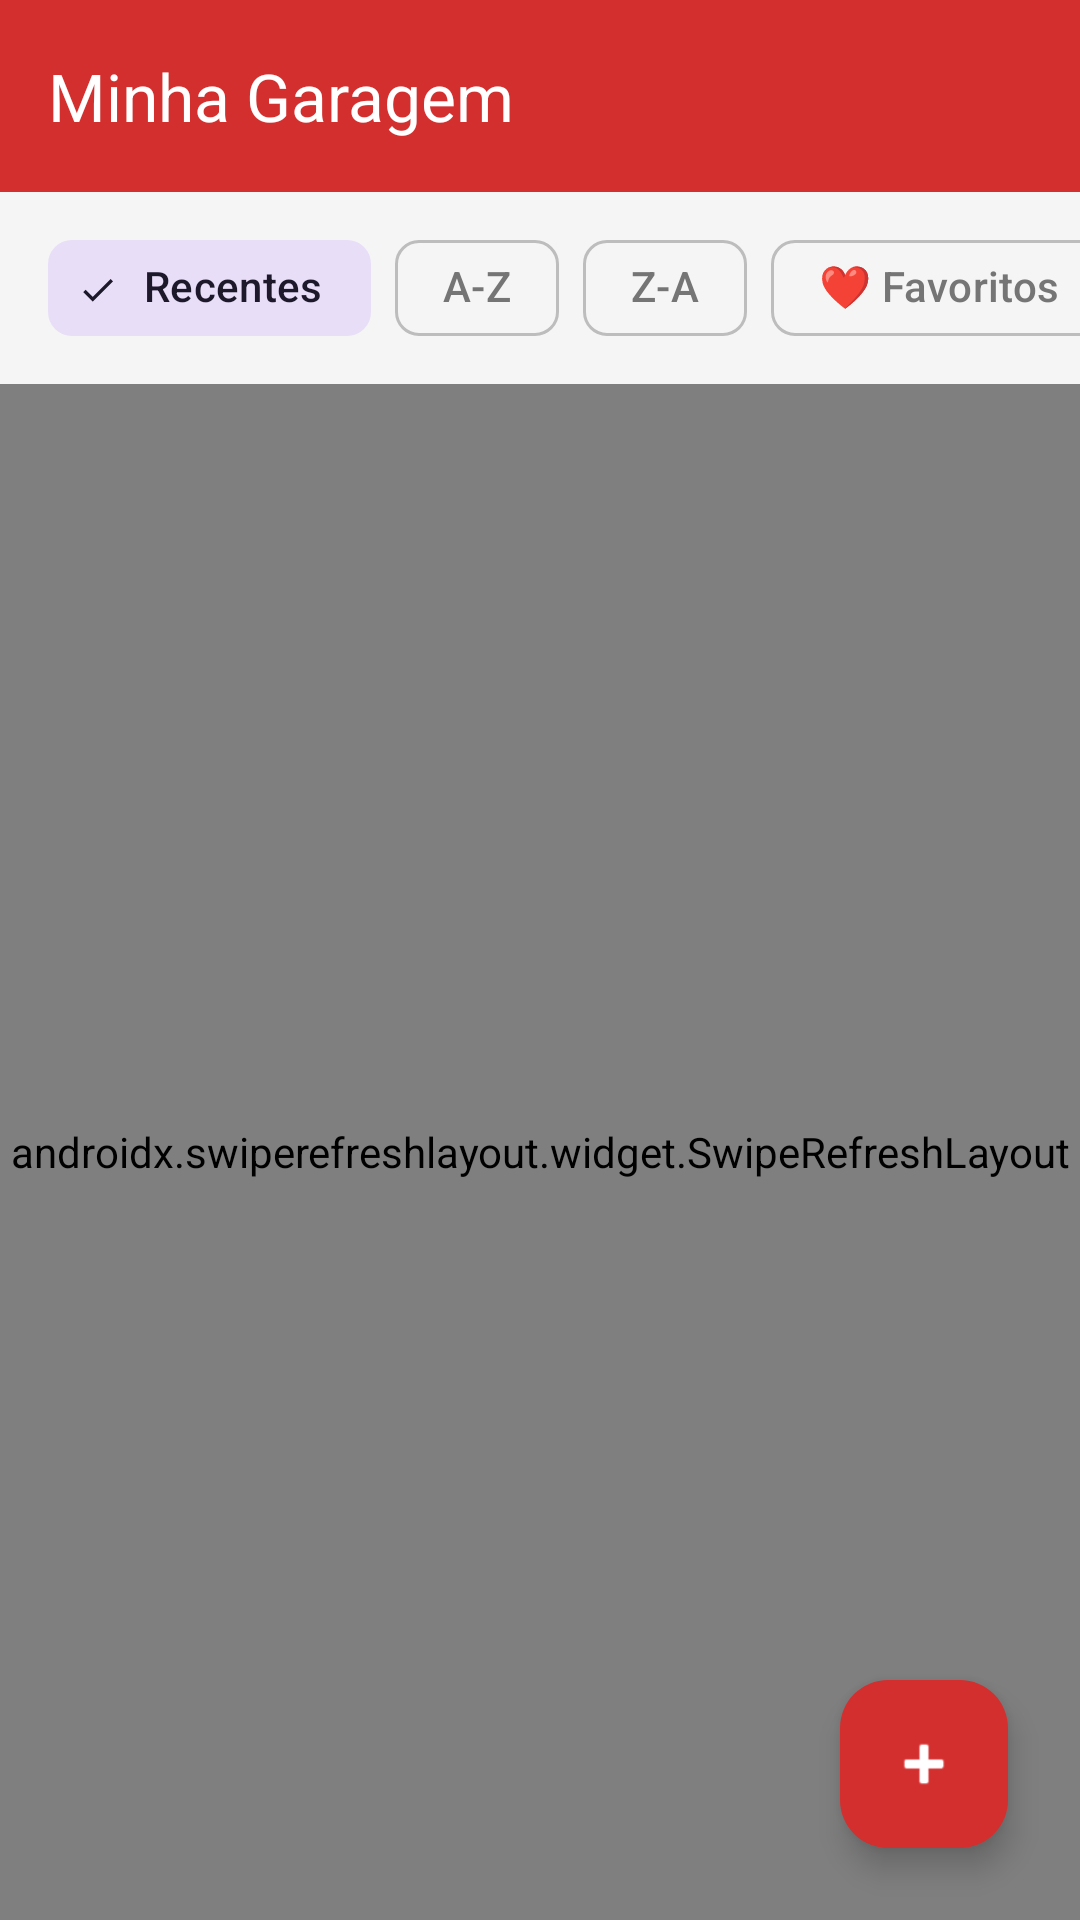

Named icons in this screenshot (1080w x 1920h) and their bounding boxes, bbox=[x1, y1, x2, y2]:
Adicionar Carro: bbox=[840, 1680, 1008, 1848]
